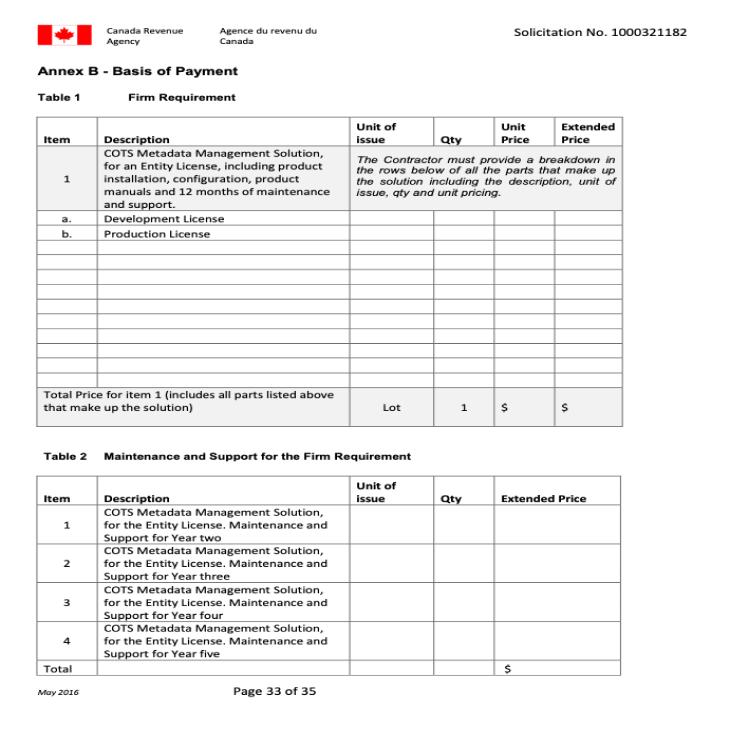tabulation: (34, 113, 624, 433), (33, 472, 625, 679)
